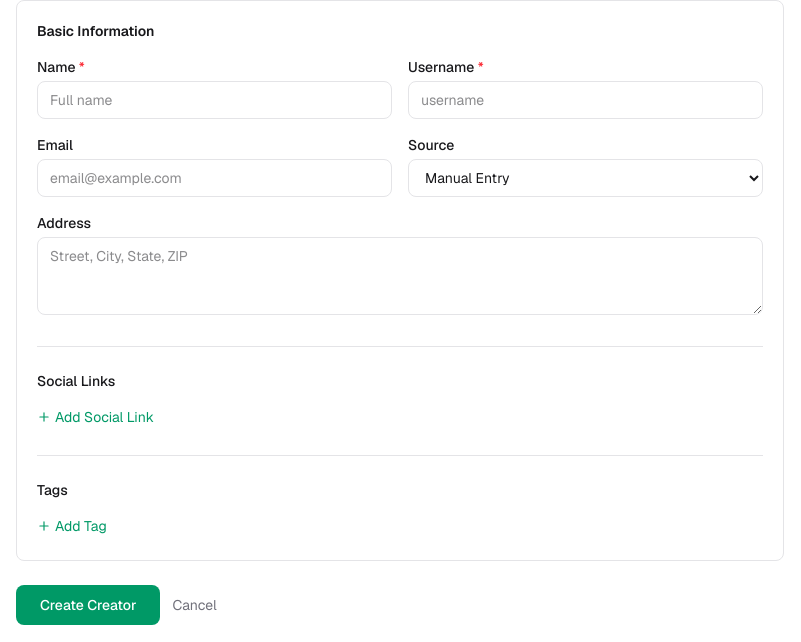
Test case: CreatorForm › disables submit button while submitting
The width and height of the screenshot is (801, 642).
In the field with placeholder "Full name": (214, 100) [37, 81, 392, 119], type "Alice Chen"
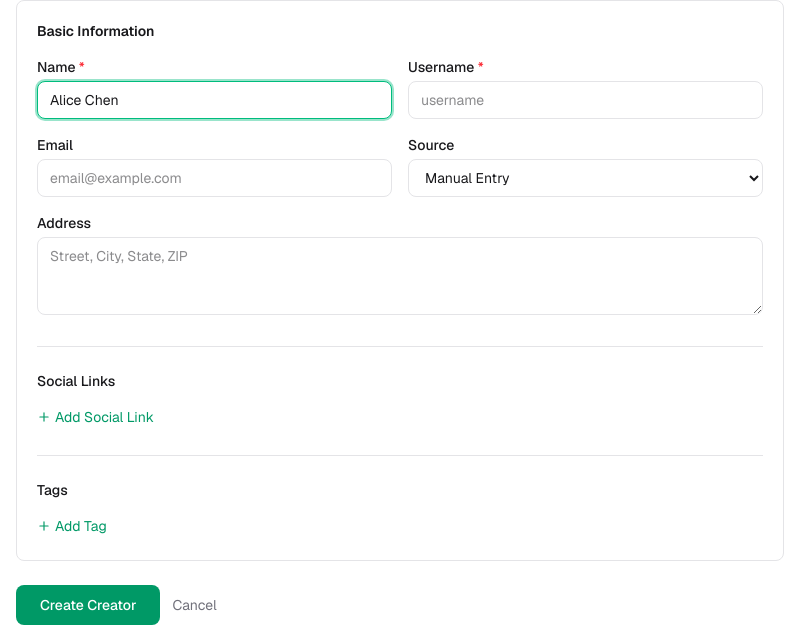
In the field with placeholder "username": (586, 100) [408, 81, 763, 119], type "alicechen"
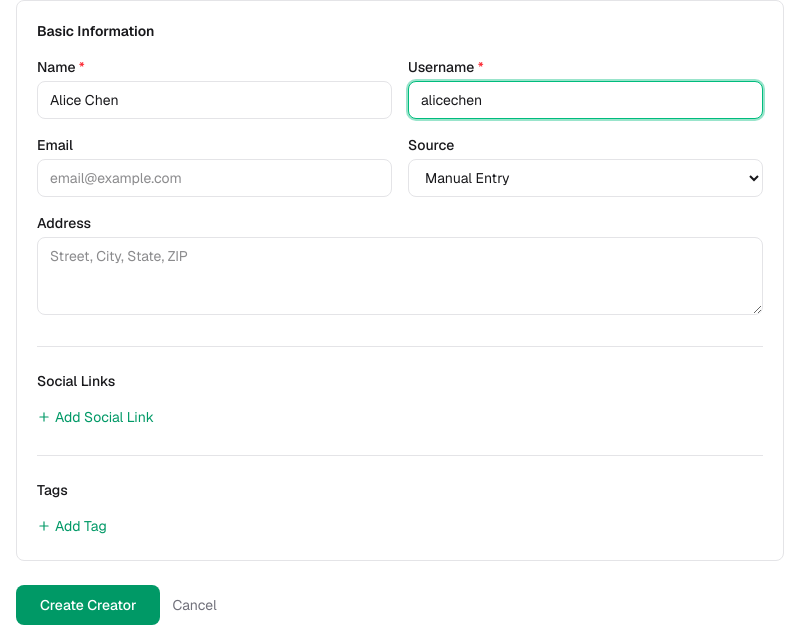
Click the button "Create Creator": (88, 605) [16, 585, 160, 625]
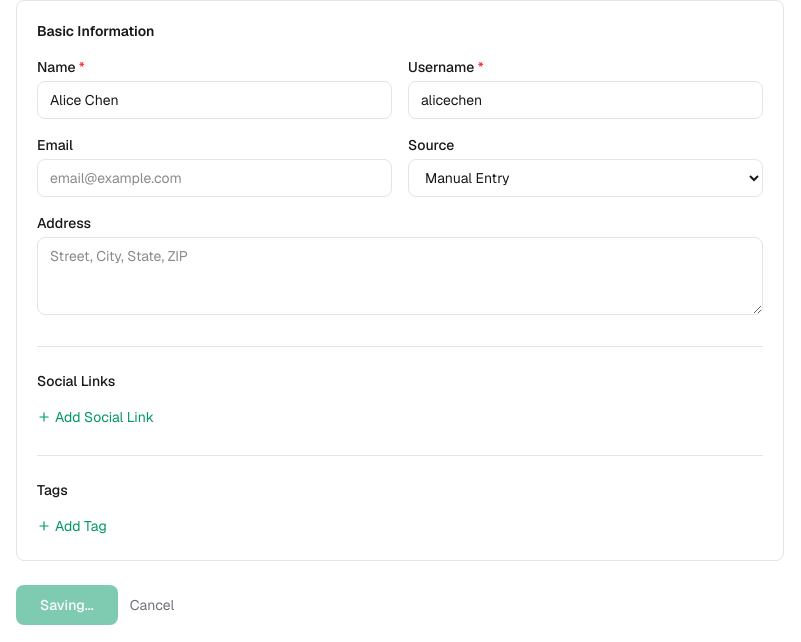
Expected: the button "Saving..." is shown, [16, 585, 118, 625]
